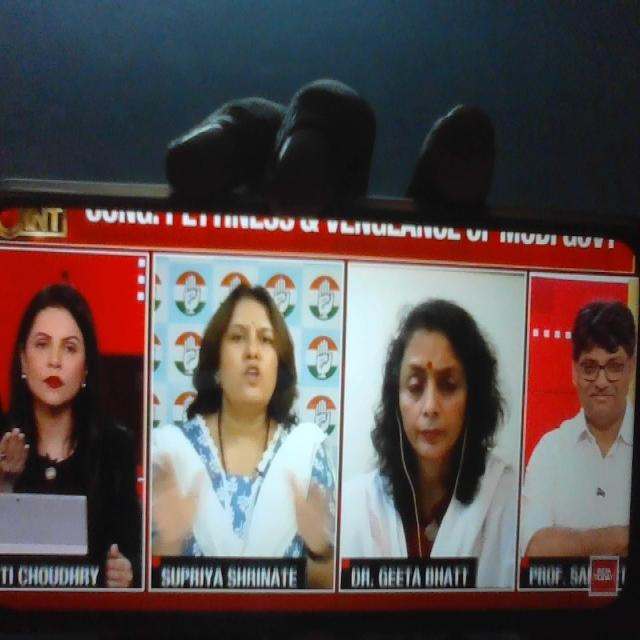fake: (371, 284, 486, 501)
